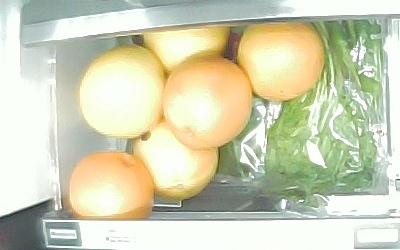grapefruit: (163, 54, 253, 152), (77, 46, 164, 141), (236, 23, 325, 102), (134, 121, 219, 201), (68, 150, 154, 221), (140, 25, 230, 70)
